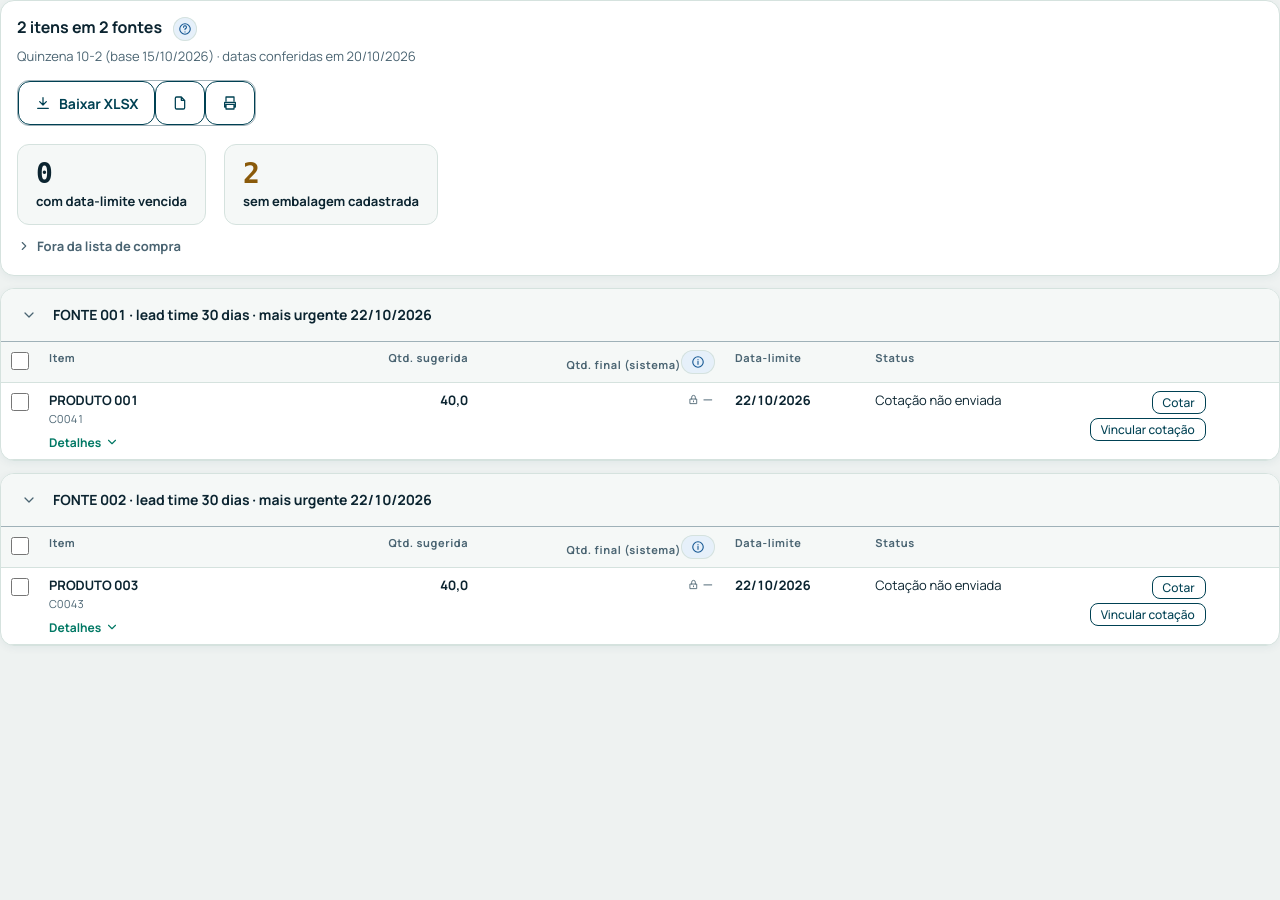
Scenario: pop-up Criar cotacao: codigo da cotacao por fonte › mostra o campo opcional com a dica por fonte do lote
Step 1. Click the button "Cotar" in the row of "PRODUTO 001" → (1179, 402), box [1152,391,1206,414]
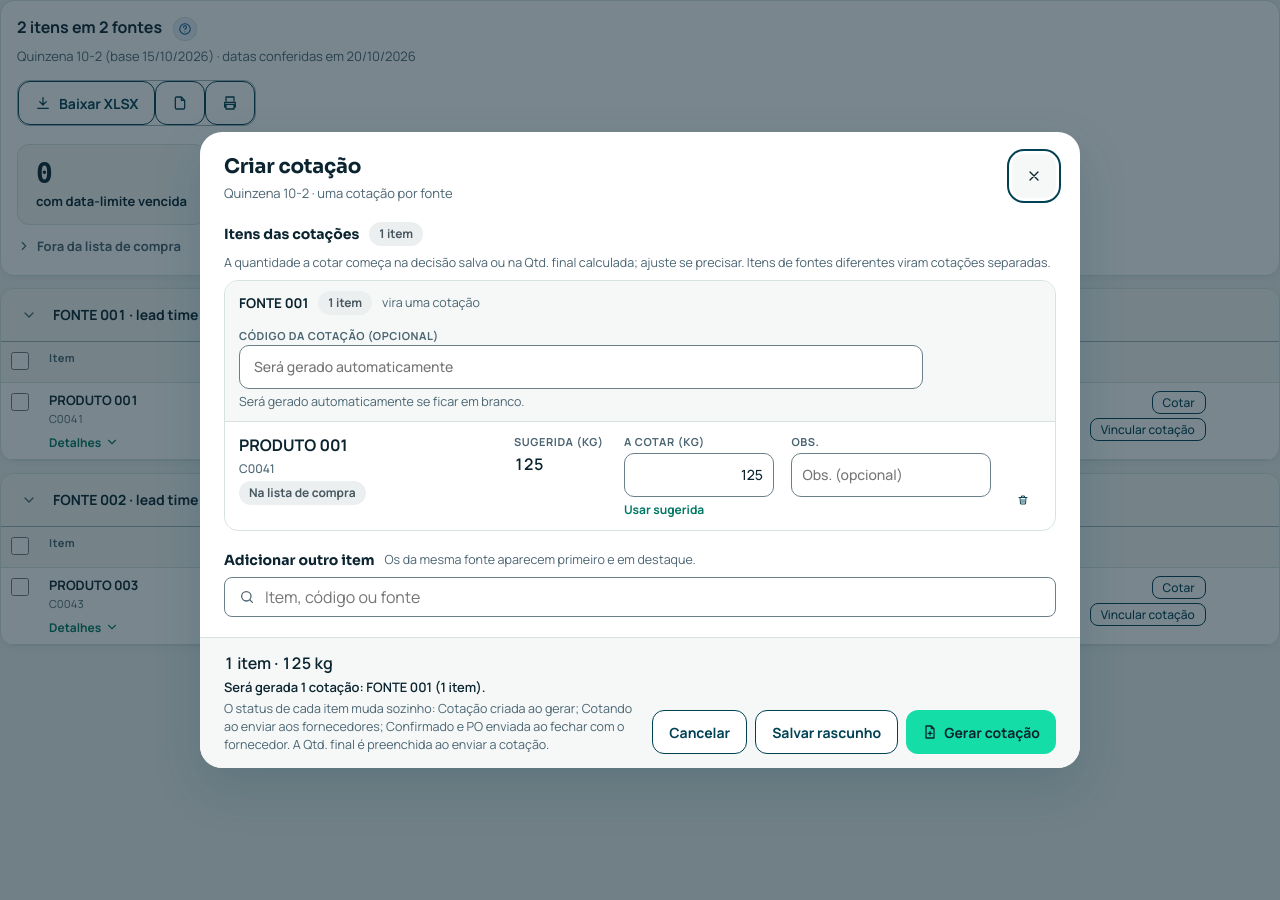
expect the button "Cancelar" is shown: met, box [652,710,747,754]
expect the text "Código da cotação (opcional)" is shown: met, box [239,328,439,343]
expect the text "Será gerado automaticamente se ficar em branco." is shown: met, box [239,393,524,410]
